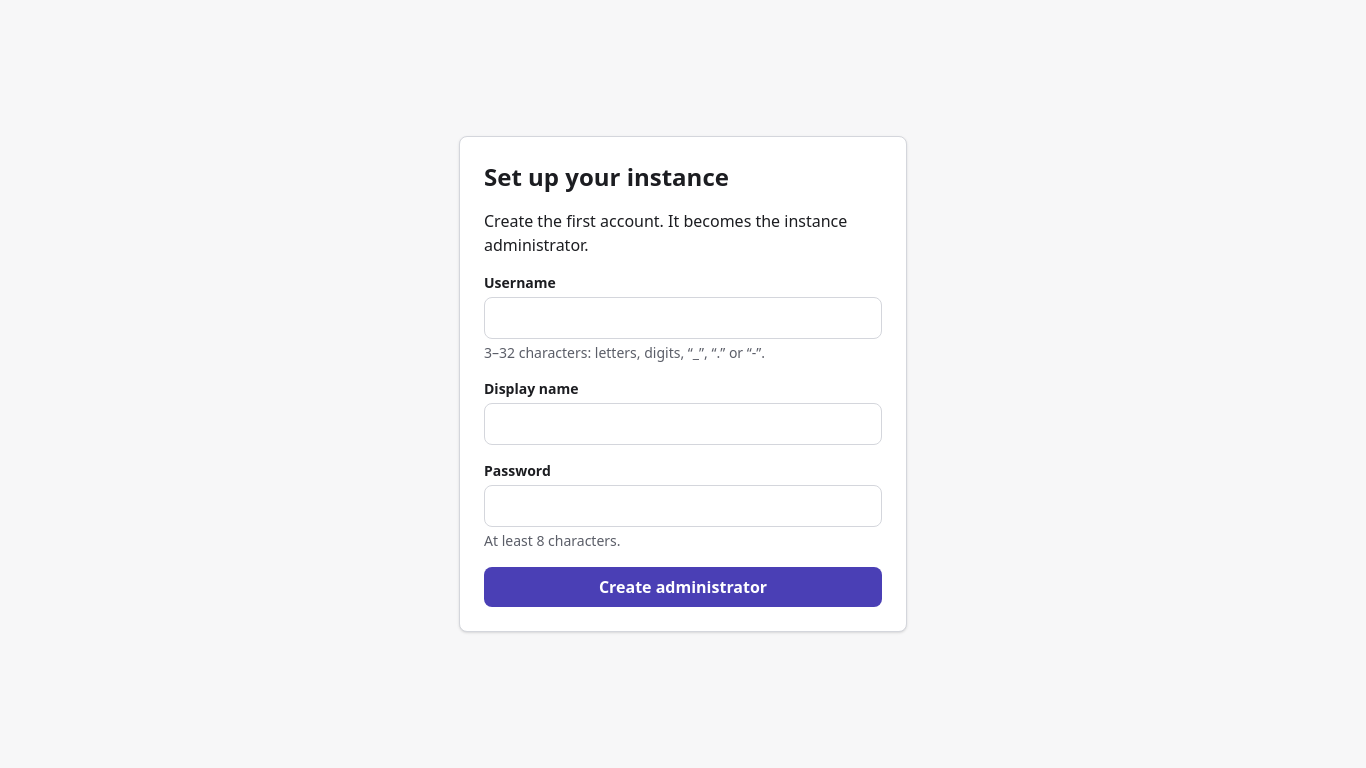
first-run setup (FR-AUTH-01) › sends a fresh instance to setup and signs the admin in
Expected: the heading "Set up your instance" is shown, [484,160,729,193]
Type "alice" into the field labelled "Username".
click(683, 318); type("alice")  # box [484,297,882,339]
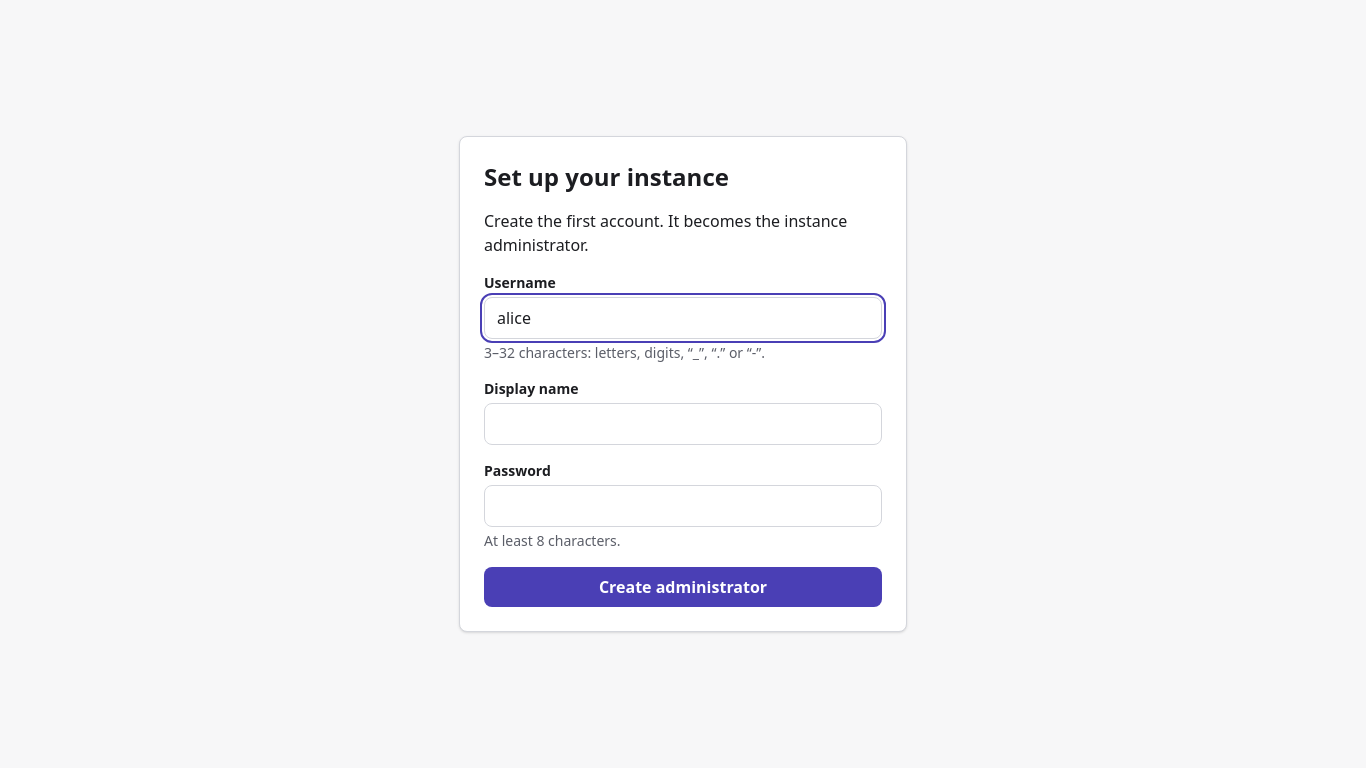
Type "Alice" into the field labelled "Display name".
click(683, 424); type("Alice")  # box [484,403,882,445]
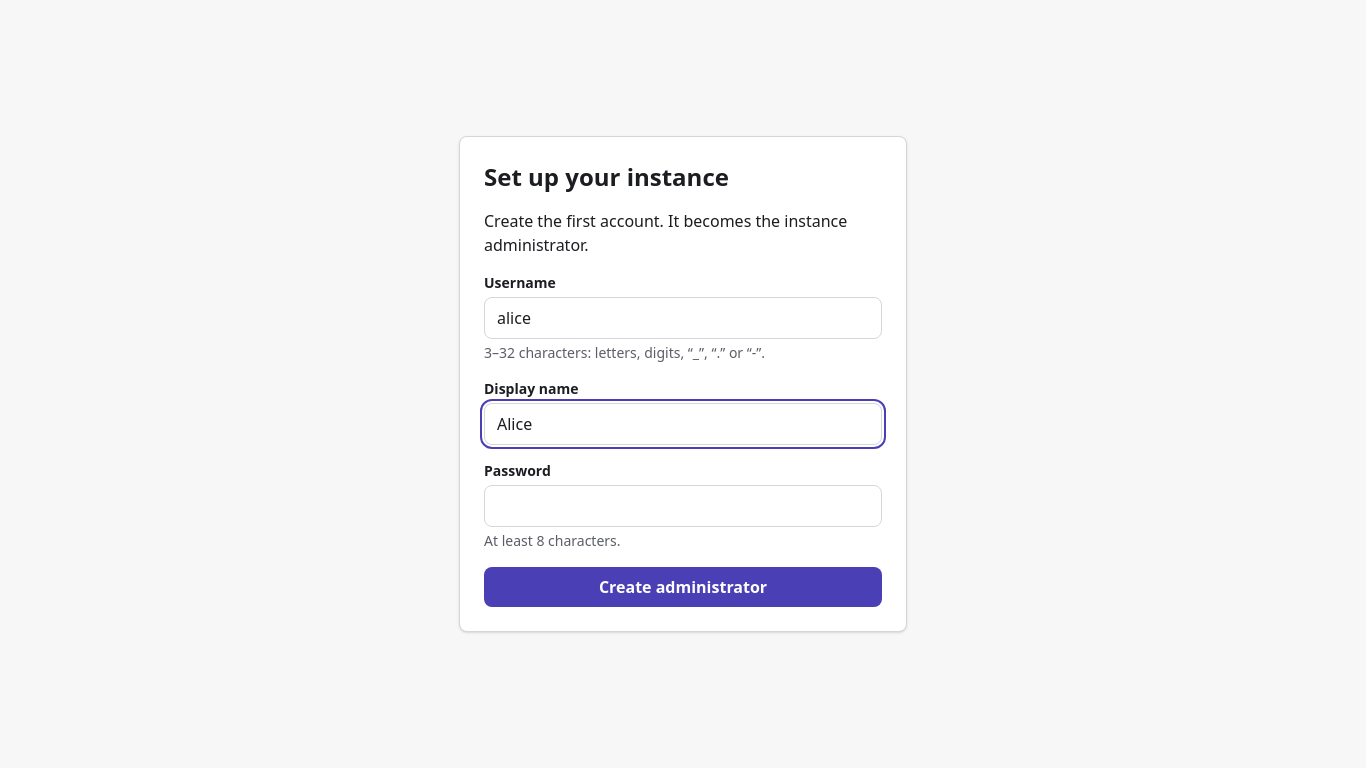
Type "long-password" into the password field labelled "Password".
click(683, 506); type("long-password")  # box [484,485,882,527]
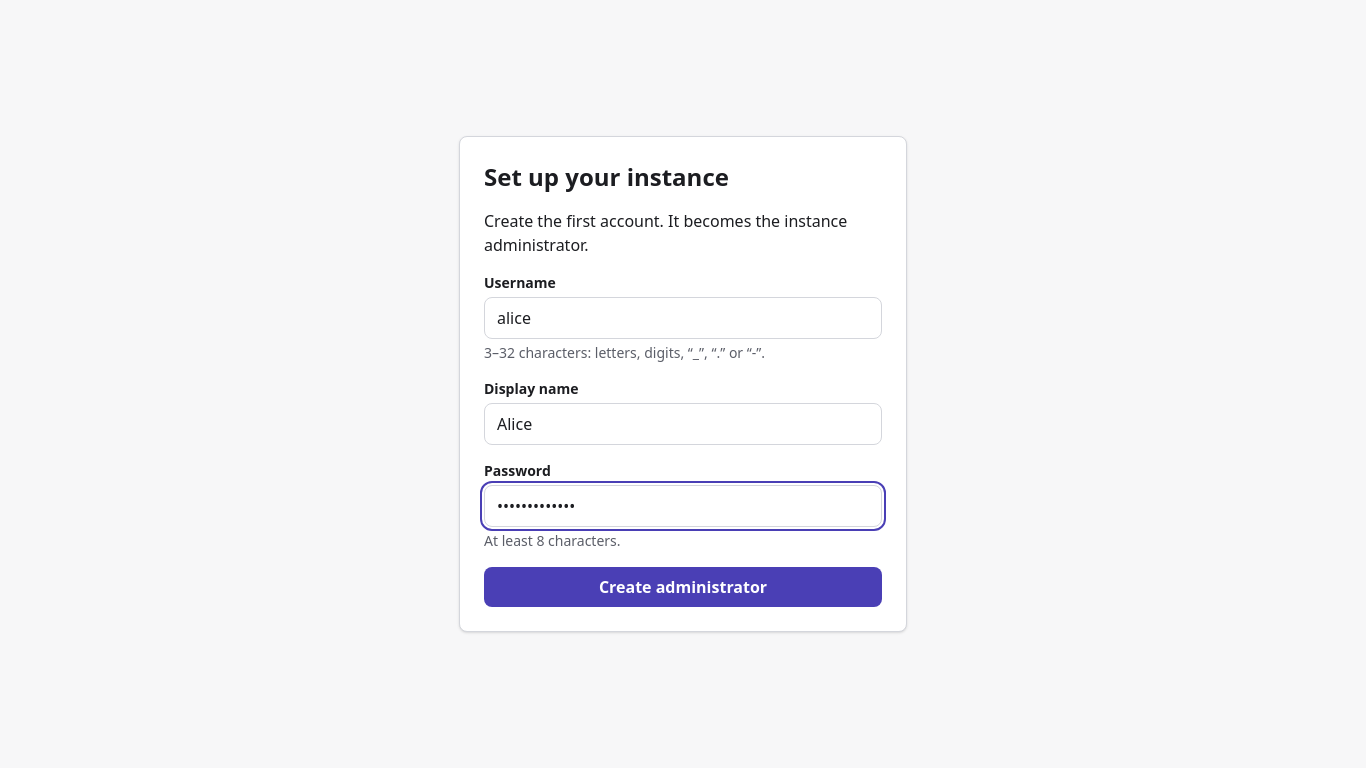
Click the button "Create administrator".
click(683, 587)  # box [484,567,882,607]
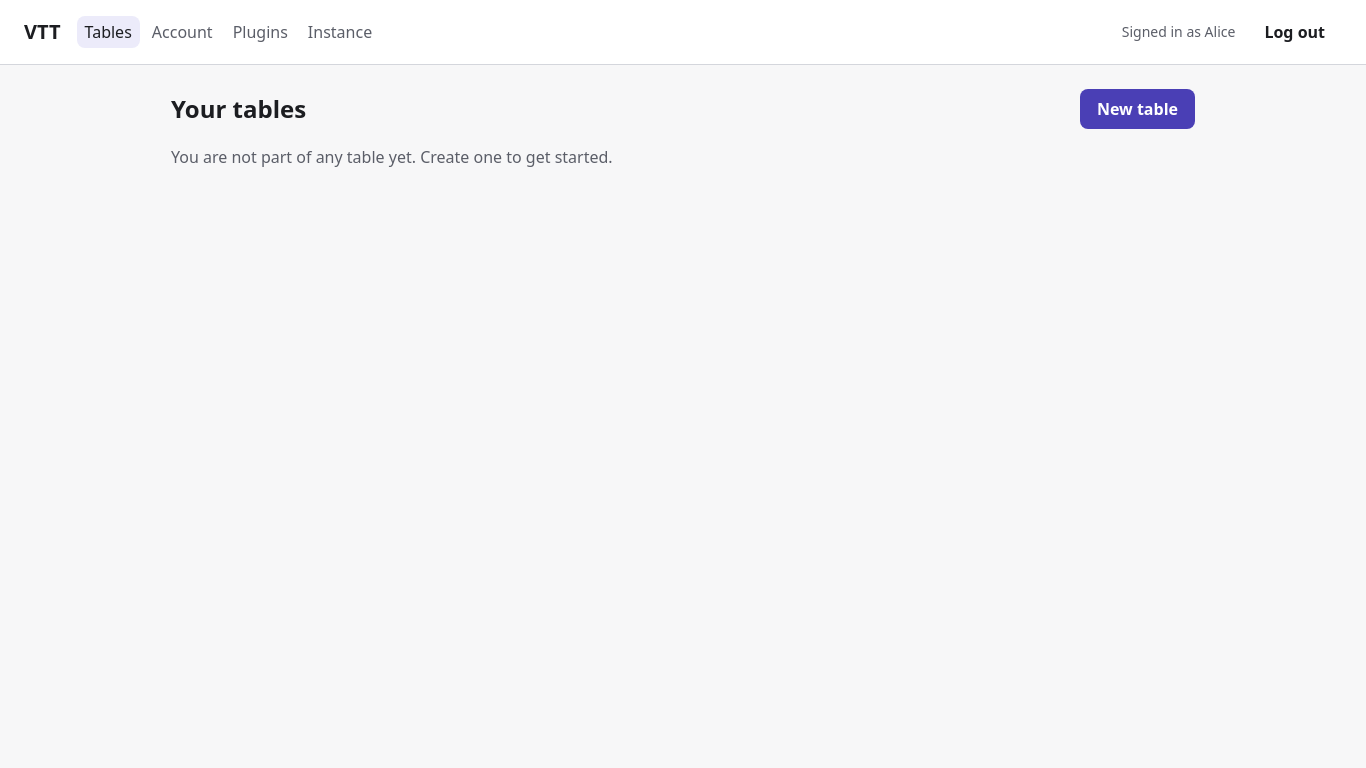
Expected: the heading "Your tables" is shown, [171,93,306,125]
Expected: the text "Signed in as Alice" is shown, [1122,22,1235,42]
